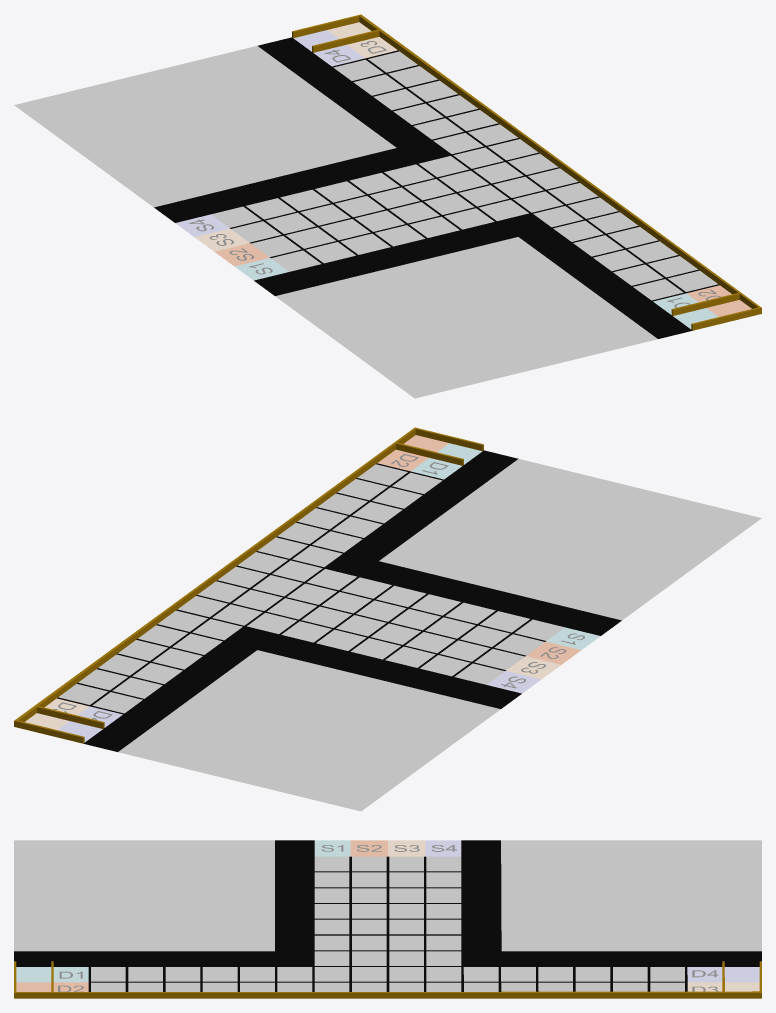
The model's file is arena_s1old.dae.
The picture shows the model from 3 angles, top to bottom: view 1: azimuth 30°, elevation 25°; view 2: azimuth 150°, elevation 25°; view 3: azimuth 270°, elevation 25°; orthographic projection. The views are drawn at different scales.
Visible parts, largest first — view 1: Mesh1_Group2_Group1_Model; view 2: Mesh1_Group2_Group1_Model; view 3: Mesh1_Group2_Group1_Model.
Part boxes in pixels (left/top/right/bottom): Mesh1_Group2_Group1_Model: left=14, top=14, right=761, bottom=398; Mesh1_Group2_Group1_Model: left=14, top=427, right=761, bottom=811; Mesh1_Group2_Group1_Model: left=14, top=840, right=761, bottom=998.
Bounding box in the file's own units: 5.02 × 10.03 × 0.0833.
